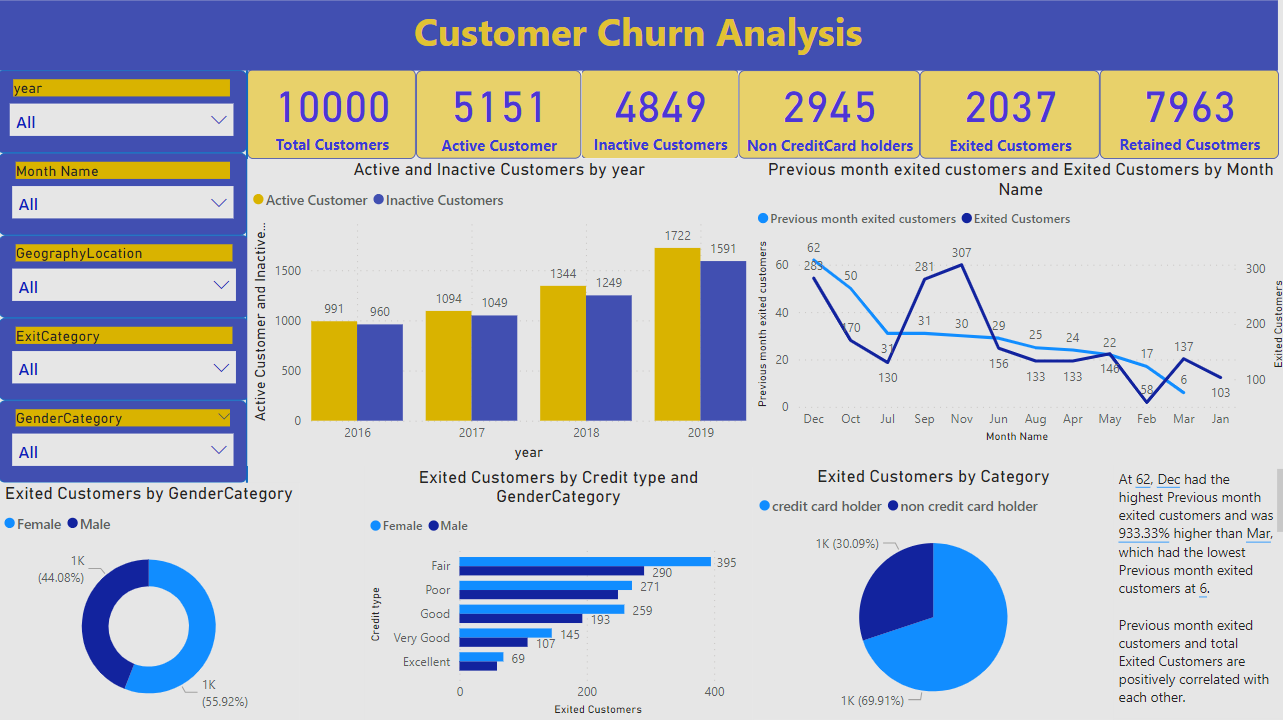

This screenshot's page, from the dashboard's own definition file:
{"tool":"powerbi","page":{"name":"Page 1","canvas":[1280,720],"ordinal":0},"visuals":[{"type":"card","fields":{"Values":["Calculations.Inactive Customers"]},"box":[586.8,83.1,154,88],"z":0},{"type":"card","fields":{"Values":["Calculations.Active Customer"]},"box":[425.4,84.3,161.4,86.8],"z":1000},{"type":"card","fields":{"Values":["Calculations.Total Customers"]},"box":[260.4,83.1,165,88],"z":2000},{"type":"card","fields":{"Values":["Calculations.Non CreditCard holders"]},"box":[740.8,84.3,177.2,86.8],"z":3000},{"type":"card","fields":{"Values":["Calculations.Exited Customers"]},"box":[918,84.3,176,86.8],"z":4000},{"type":"card","fields":{"Values":["Calculations.Retained Cusotmers"]},"box":[1094.1,83.1,174.8,88],"z":5000},{"type":"textbox","box":[17.5,16.1,1251,68.5],"z":6000},{"type":"shape","box":[256.6,84.7,6.7,635.6],"z":8000},{"type":"slicer","fields":{"Values":["DateMaster.year"]},"box":[14.7,84.3,245.7,80.7],"z":9000},{"type":"slicer","fields":{"Values":["DateMaster.month name"]},"box":[17.1,165,243.3,80.7],"z":10000},{"type":"slicer","fields":{"Values":["Geography.GeographyLocation"]},"box":[17.1,245.7,245.7,80.7],"z":11000},{"type":"slicer","fields":{"Values":["ExitCustomer.ExitCategory"]},"box":[17.1,326.4,245.7,80.7],"z":12000},{"type":"slicer","fields":{"Values":["Gender.GenderCategory"]},"box":[17.1,407.1,243.3,80.7],"z":13000},{"type":"clusteredColumnChart","title":"Active  and Inactive Customers by year","fields":{"Category":["DateMaster.year","DateMaster.Month Name"],"Y":["Calculations.Active Customer","Calculations.Inactive Customers"]},"box":[260.7,170.6,493.1,299.6],"z":14000},{"type":"slicer","box":[17,488,239,232],"z":15000},{"type":"lineChart","fields":{"Category":["DateMaster.Month Name"],"Y2":["Calculations.Exited Customers"],"Y":["Calculations.Previous month exited customers"]},"box":[754.2,171.1,525.6,282.4],"z":16000},{"type":"donutChart","fields":{"Category":["Gender.GenderCategory"],"Y":["Calculations.Exited Customers"]},"box":[17.5,487.8,294.3,232.5],"z":17000},{"type":"clusteredBarChart","fields":{"Category":["Bank_Churn.Credit type"],"Y":["Calculations.Exited Customers"],"Series":["Gender.GenderCategory"]},"box":[374.9,471.6,378.9,248.6],"z":18000},{"type":"pieChart","fields":{"Category":["Creditcard.Category"],"Y":["Calculations.Exited Customers"]},"box":[755.2,470.3,352,248.6],"z":19000},{"type":"textbox","box":[1107,470,173,249],"z":20000}]}

Visuals, with their boxes in screenshot pixels (x1, y1, x2, y2), scaled from the page's 1280x720 canvas onto the 1283x720 screenshot:
card - Calculations.Inactive Customers: 588 83 743 171
card - Calculations.Active Customer: 426 84 588 171
card - Calculations.Total Customers: 261 83 426 171
card - Calculations.Non CreditCard holders: 743 84 920 171
card - Calculations.Exited Customers: 920 84 1097 171
card - Calculations.Retained Cusotmers: 1097 83 1272 171
textbox: 18 16 1271 85
shape: 257 85 264 719
slicer - DateMaster.year: 15 84 261 165
slicer - DateMaster.month name: 17 165 261 246
slicer - Geography.GeographyLocation: 17 246 263 326
slicer - ExitCustomer.ExitCategory: 17 326 263 407
slicer - Gender.GenderCategory: 17 407 261 488
"Active  and Inactive Customers by year" clusteredColumnChart: 261 171 756 470
slicer: 17 488 257 719
lineChart - DateMaster.Month Name x Calculations.Exited Customers: 756 171 1282 454
donutChart - Gender.GenderCategory x Calculations.Exited Customers: 18 488 313 719
clusteredBarChart - Bank_Churn.Credit type x Calculations.Exited Customers: 376 472 756 719
pieChart - Creditcard.Category x Calculations.Exited Customers: 757 470 1110 719
textbox: 1110 470 1282 719
